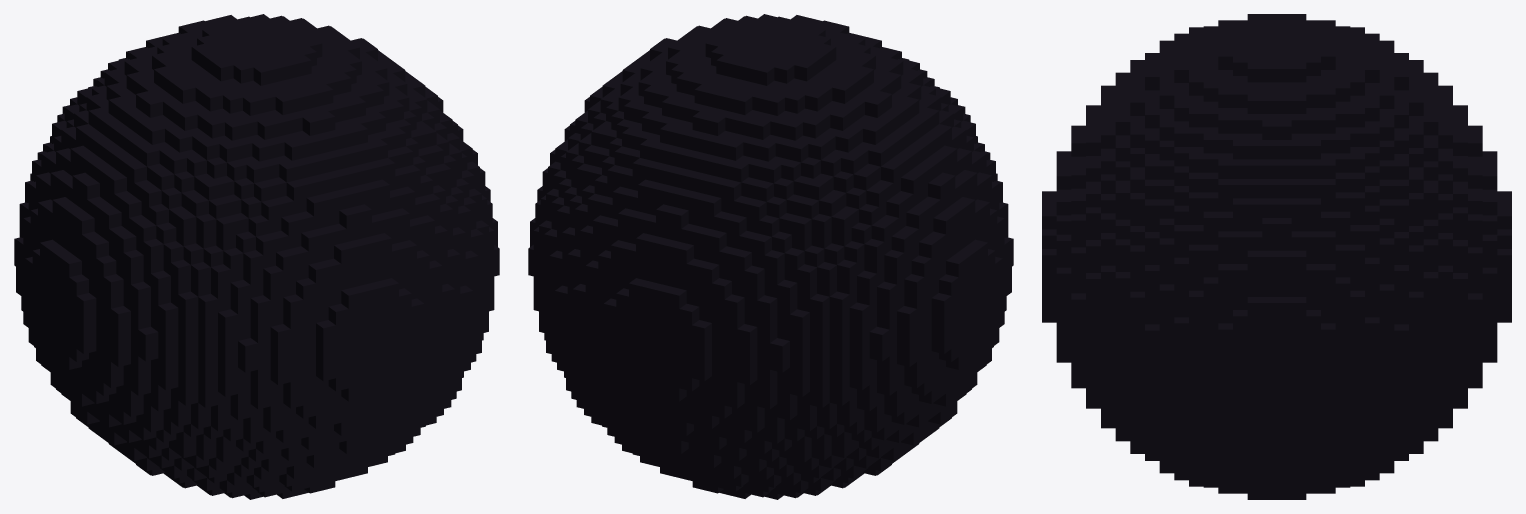
The model's file is Bomb.obj.
The picture shows the model from 3 angles, left to right: view 1: azimuth 30°, elevation 25°; view 2: azimuth 150°, elevation 25°; view 3: azimuth 270°, elevation 25°; orthographic projection.
Size of the model in its own units: 3.2 by 3.2 by 3.2.
Materials: 1 (1 with a texture image).
